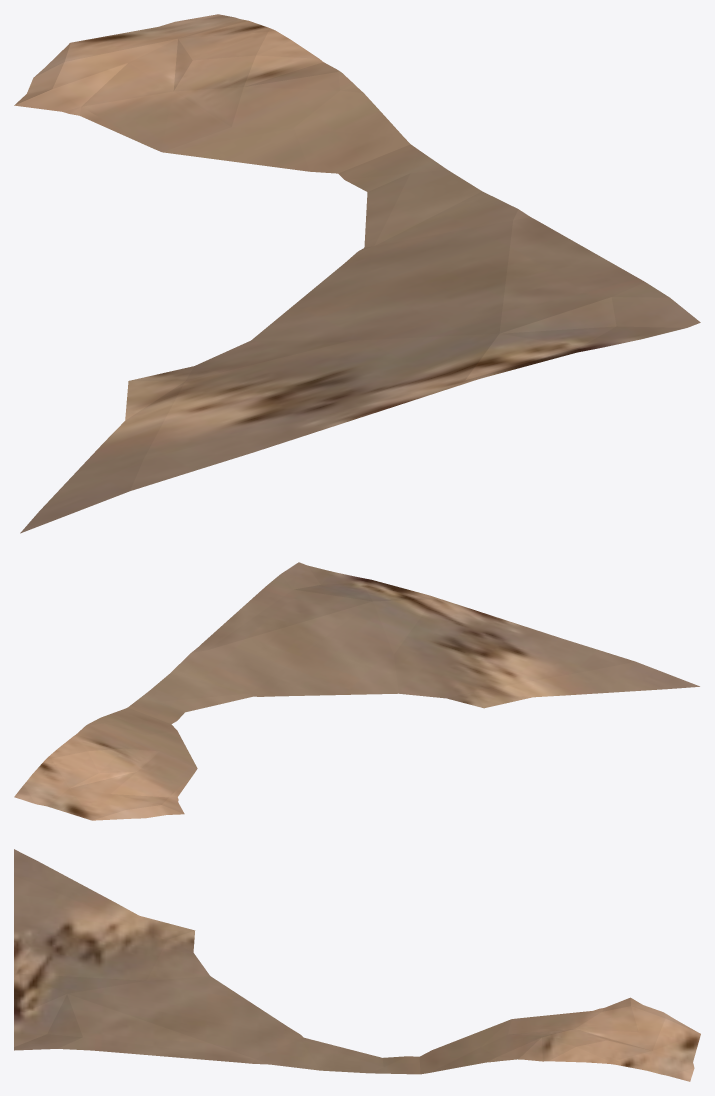
3 renders of one model, top to bottom at view 1: azimuth 30°, elevation 25°; view 2: azimuth 150°, elevation 25°; view 3: azimuth 270°, elevation 25°, orthographic. The views are drawn at different scales.
Size of the model in its own units: 0.6821 by 0.0451 by 0.8503.
Materials: 1 (1 with a texture image).
